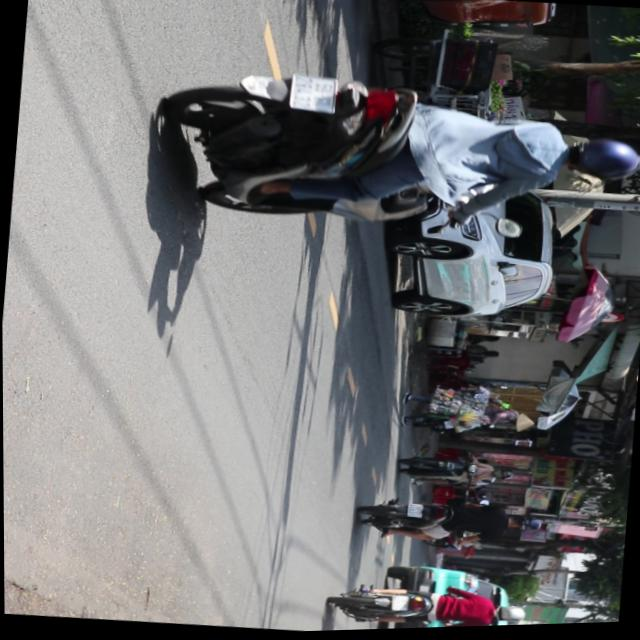helmet: (560, 134, 640, 187), (509, 515, 543, 536), (493, 606, 525, 626)
licenseplate: (145, 51, 640, 259), (354, 490, 545, 556), (327, 576, 527, 632)
nohelmet: (289, 74, 337, 115), (390, 597, 407, 613), (405, 504, 422, 520)
